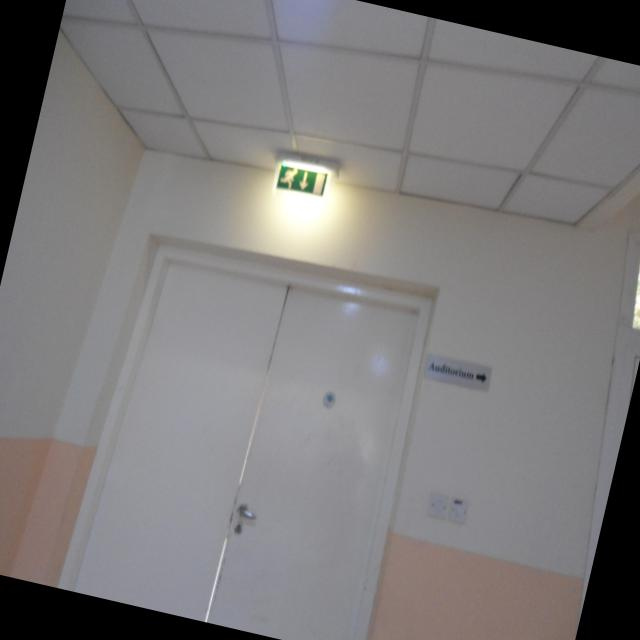door: (67, 217, 442, 640)
exitLight: (252, 136, 348, 207)
sign: (408, 342, 501, 402)
